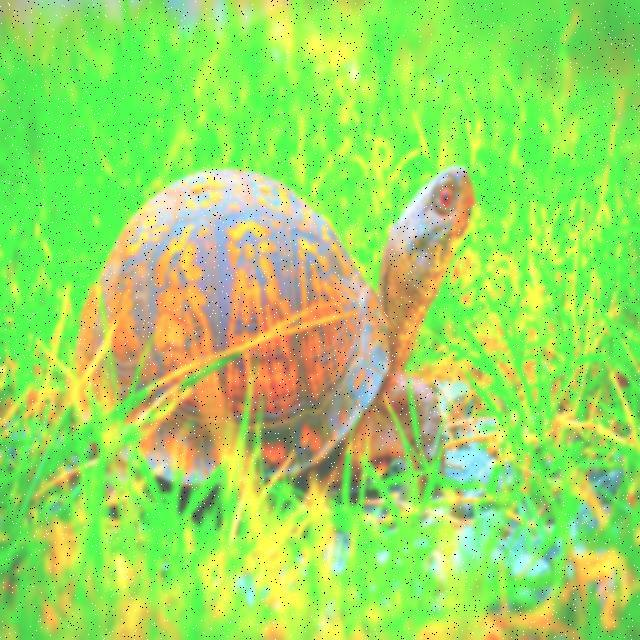tortoise: (88, 158, 476, 536)
